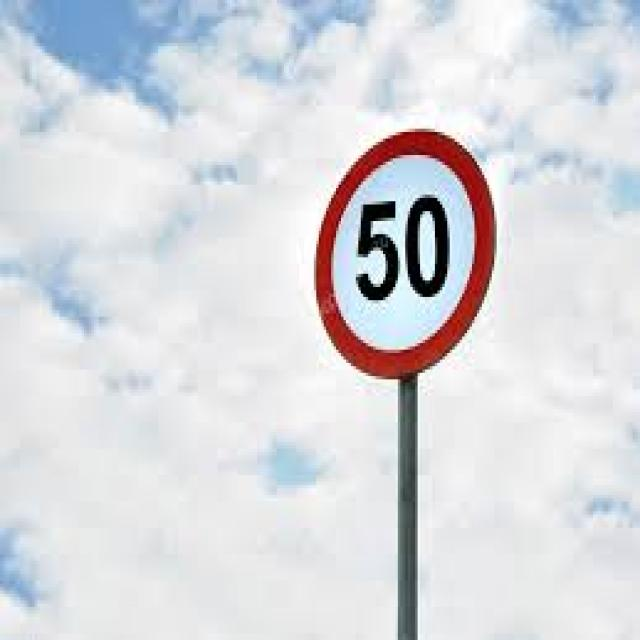Speed limit 50: (313, 123, 501, 380)
